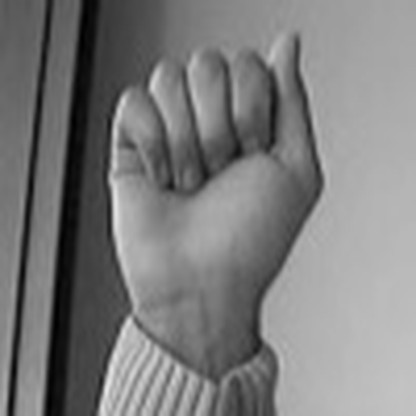a: (104, 20, 331, 307)
